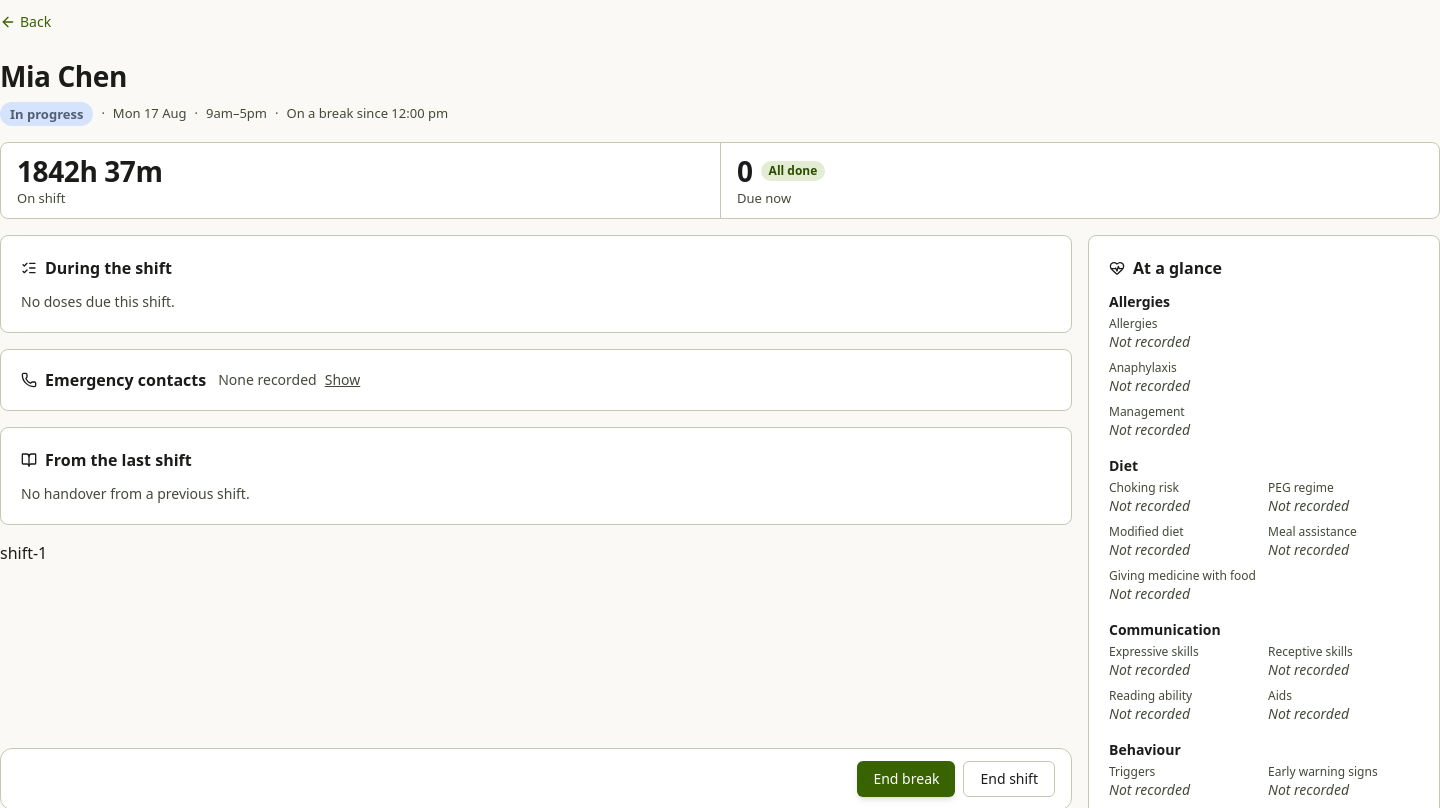
Test case: PortalShiftDetailPage: the five-step finish (SHAPE §4) › step 1 stops only on a running break, names it, and focuses its End break
The width and height of the screenshot is (1440, 808).
Click the button "End shift": point(1009, 779) [964,761,1055,797]
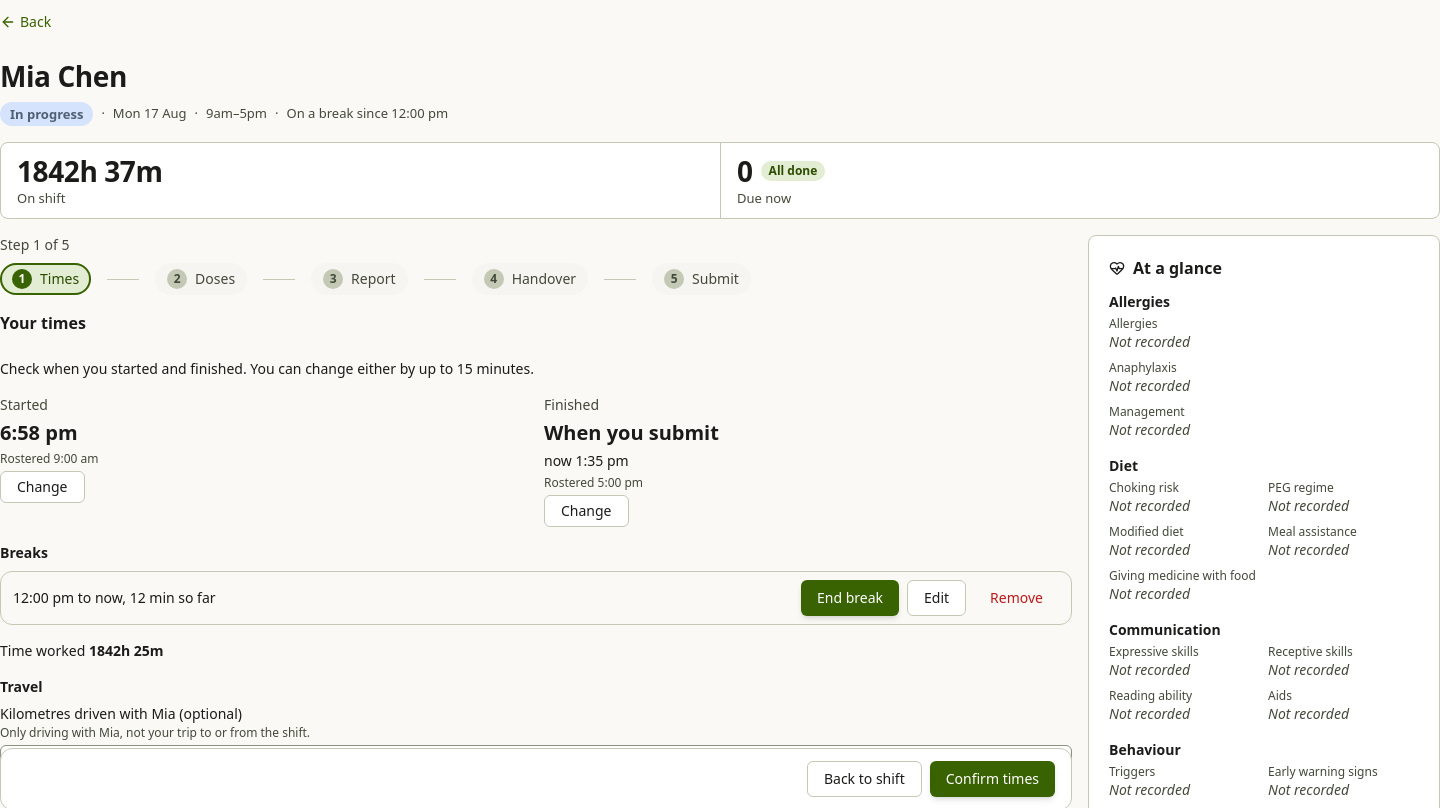
Click the button "Confirm times": point(992, 779) [930,761,1055,797]
(page scrolled)
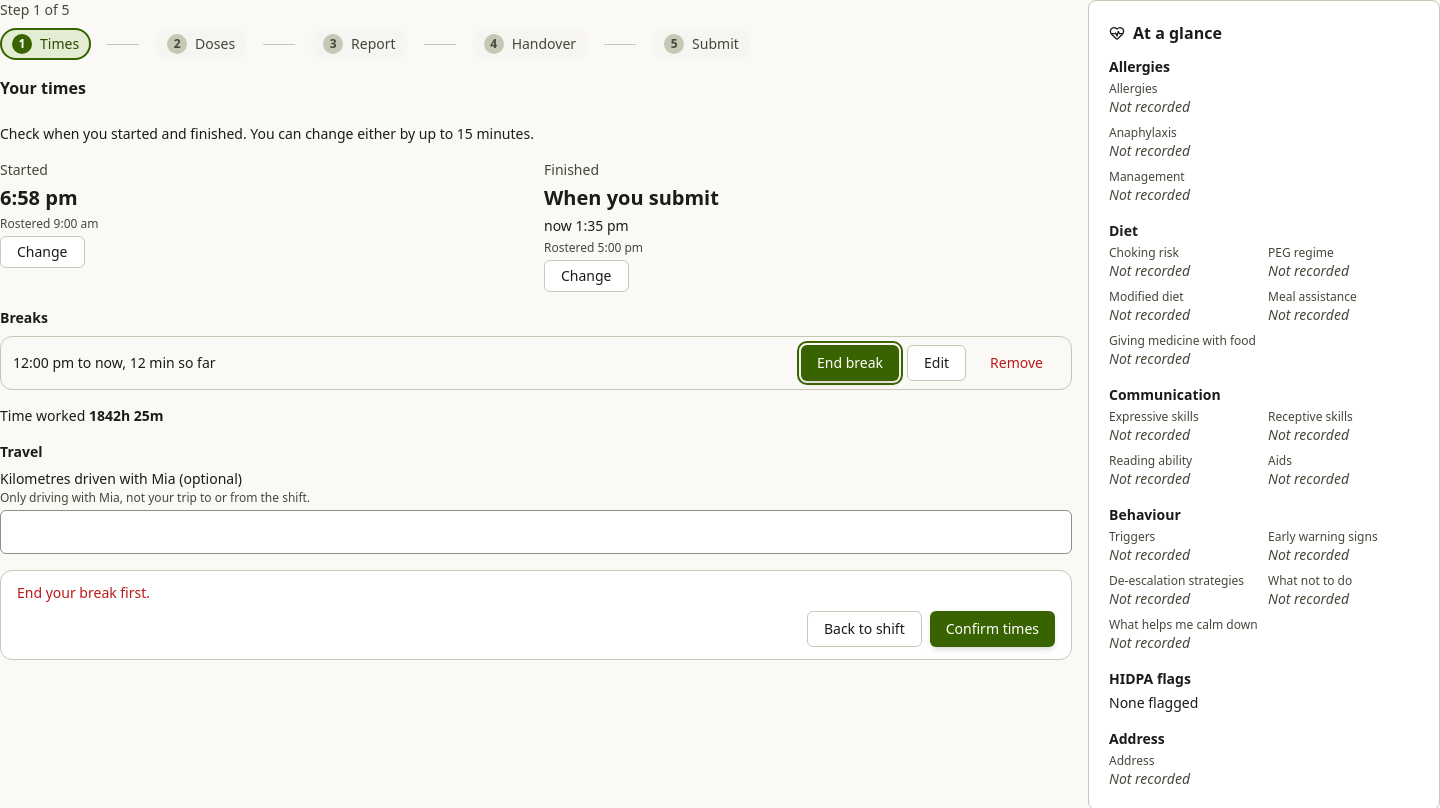
Expected: the heading "Your times" is shown, [0,76,86,100]
Expected: the button "Confirm times" is enabled, [930,611,1055,647]
Expected: the message reads "End your break first.", [17,583,150,602]
